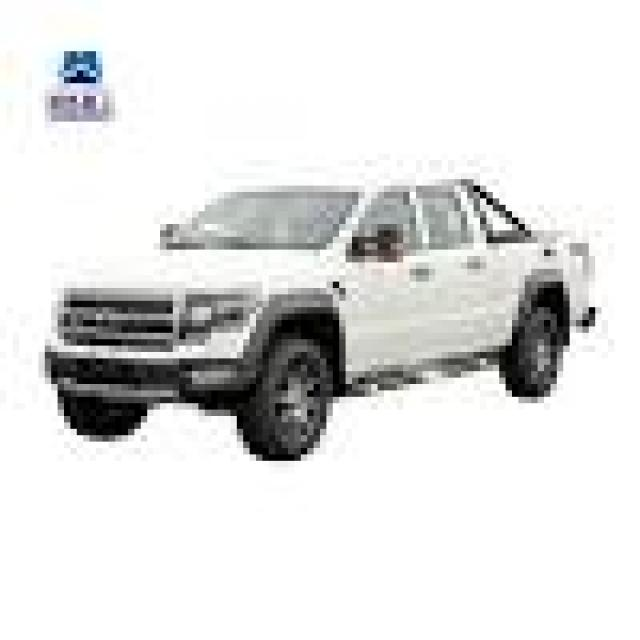Pickup Trucks: (38, 160, 596, 461)
